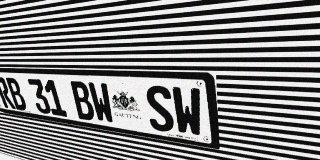1: (41, 79, 68, 117)
3: (27, 79, 52, 115)
B: (69, 81, 96, 121), (4, 77, 28, 111)
R: (0, 77, 16, 109)
S: (144, 85, 176, 133)
W: (171, 86, 204, 138), (87, 82, 116, 124)
